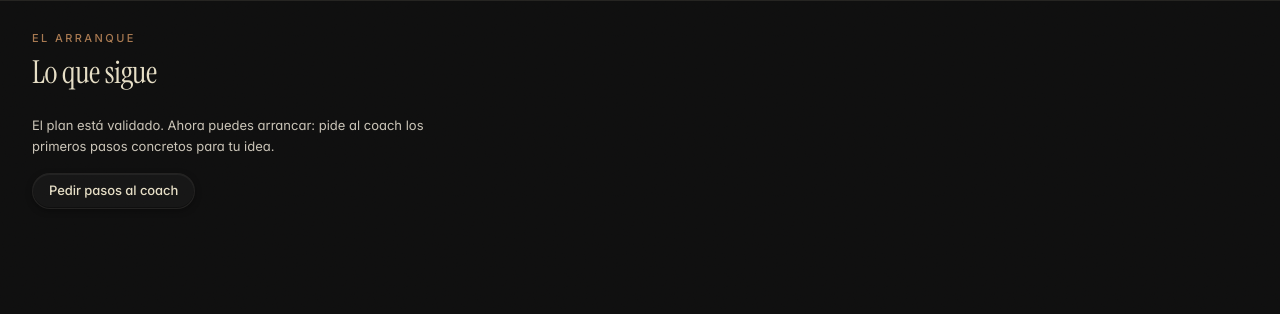
ArranqueSection — the steps the coach and the person agreed on › shows the limit as a message, not as an error, when the quota is reached
Expected: the text "El plan está validado" is shown, [32,117,424,154]
Click the button "Pedir pasos al coach" at (114, 191), box [32,173,195,209]
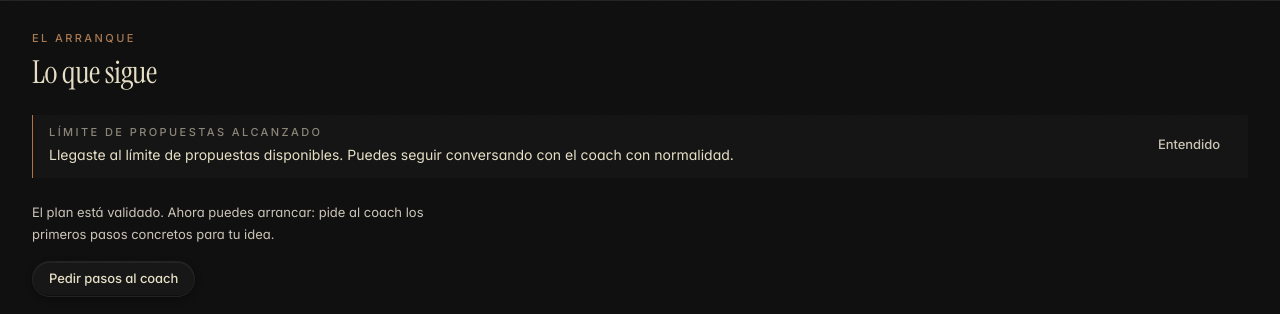
Result: the text "Llegaste al límite de propuestas disponibles. Puedes seguir conversando con el coach con normalidad." is shown at [49,146,734,163]
Click the button "Entendido" at (1189, 145), box [1142,127,1236,163]
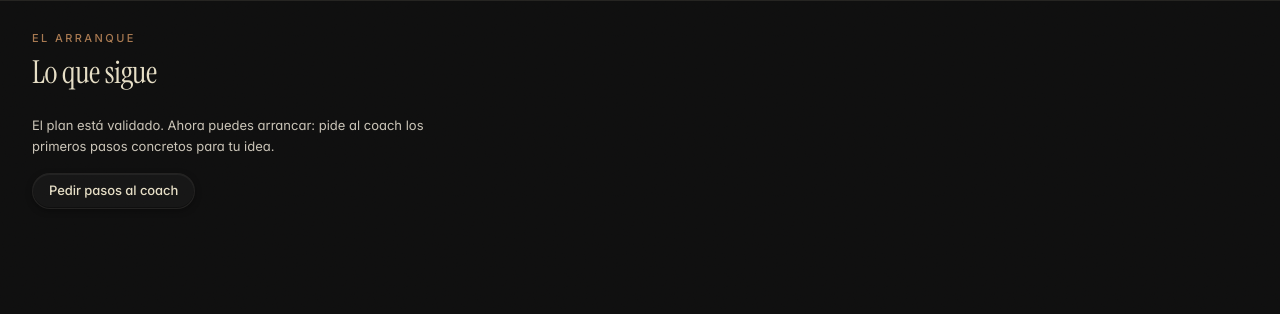
Result: the text "Llegaste al límite de propuestas disponibles" is gone
